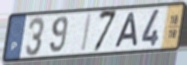3: (24, 15, 46, 58)
4: (140, 8, 161, 49)
7: (91, 9, 119, 55)
9: (48, 15, 69, 55)
A: (113, 11, 139, 50)
I: (80, 13, 94, 54)
